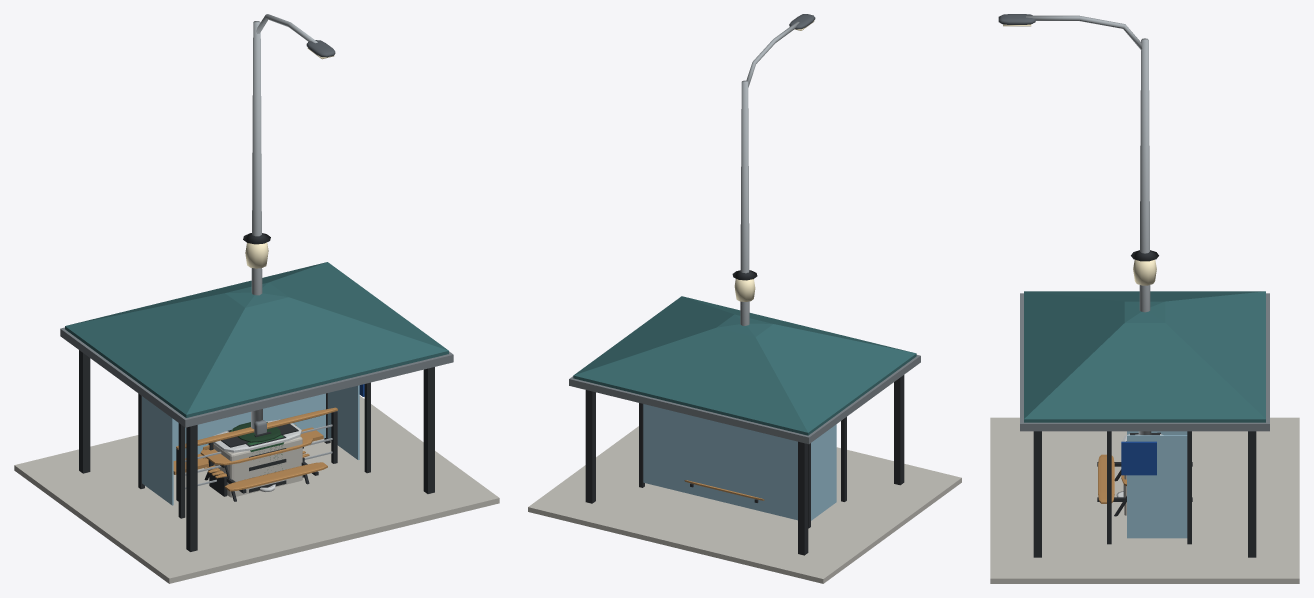
Rendered from street.glb.
3 renders of one model, left to right at view 1: azimuth 30°, elevation 25°; view 2: azimuth 150°, elevation 25°; view 3: azimuth 270°, elevation 25°, orthographic. The views are drawn at different scales.
Parts seen in each view (by area): view 1: BBQShelter, BusShelter, StreetLight, PicnicTable, RiverwalkRail, ParkBin, ParkLight; view 2: BBQShelter, BusShelter, StreetLight, ParkLight; view 3: BBQShelter, BusShelter, StreetLight, PicnicTable, ParkLight.
Part boxes in pixels (x1,y1,x2,y2): BBQShelter: (14,262,499,583); BusShelter: (138,382,370,518); StreetLight: (251,14,335,434); PicnicTable: (197,431,327,501); RiverwalkRail: (176,407,337,501); ParkBin: (228,422,286,492); ParkLight: (243,233,270,268); BBQShelter: (528,296,961,583); BusShelter: (639,403,846,528); StreetLight: (740,14,815,325); ParkLight: (732,270,757,301); BBQShelter: (990,291,1299,583); BusShelter: (1107,431,1191,544); StreetLight: (998,14,1151,435); PicnicTable: (1097,454,1192,516); ParkLight: (1131,250,1158,285).
Bounding box in the file's own units: 6.4 × 9.05 × 5.2.
